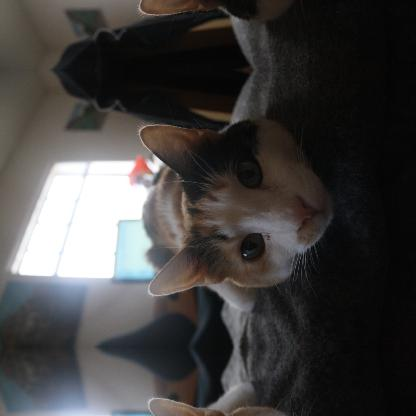Cat: (139, 122, 335, 312)
